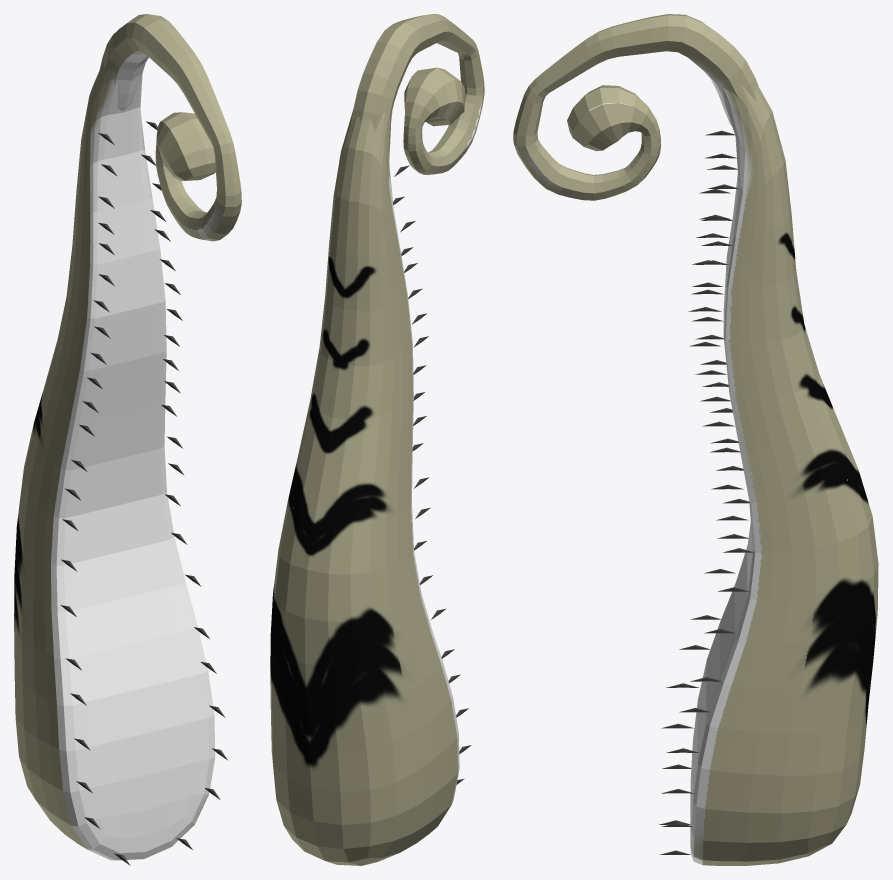
Rendered from HBOsminog.obj.
The picture shows the model from 3 angles, left to right: view 1: azimuth 30°, elevation 25°; view 2: azimuth 150°, elevation 25°; view 3: azimuth 270°, elevation 25°; orthographic projection. The views are drawn at different scales.
Visible parts, largest first — view 1: Cube; view 2: Cube; view 3: Cube.
Part boxes in pixels (box(x1,y1,x2,y2)): Cube: box(14, 14, 241, 865); Cube: box(270, 14, 484, 865); Cube: box(513, 14, 878, 865).
Size of the model in its own units: 1.95 by 10.25 by 4.03.
2 materials, 1 textured.
